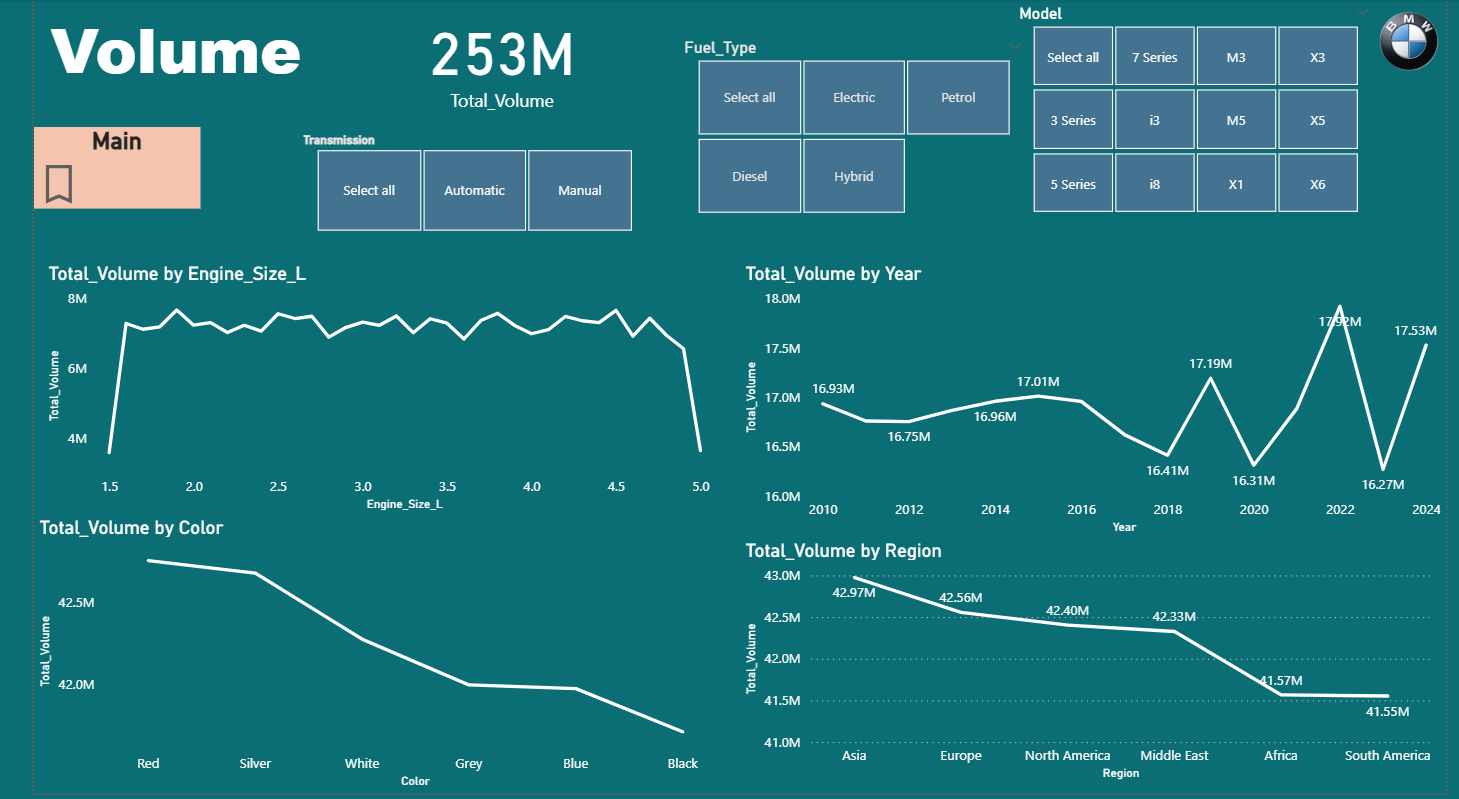

The page's visual inventory and layout, read from the dashboard file:
{"tool":"powerbi","page":{"name":"Volume","canvas":[1280,720],"ordinal":2},"visuals":[{"type":"textbox","box":[10,0,280.2,95.2],"z":0},{"type":"image","box":[1052.4,0,227.6,182.3],"z":1000},{"type":"slicer","fields":{"Values":["BMW sales data (2010-2024) (1).Transmission"]},"box":[231.2,116.1,334.6,100.7],"z":2000},{"type":"lineChart","fields":{"Category":["BMW sales data (2010-2024) (1).Region"],"Y":["BMW sales data (2010-2024) (1).Quantity"]},"box":[639.8,489.7,640.2,223.1],"z":3000},{"type":"lineChart","fields":{"Category":["BMW sales data (2010-2024) (1).Color"],"Y":["BMW sales data (2010-2024) (1).Quantity"]},"box":[0,468.8,632,251.2],"z":4000},{"type":"slicer","fields":{"Values":["BMW sales data (2010-2024) (1).Fuel_Type"]},"box":[576.7,30.8,331.9,169.6],"z":5000},{"type":"slicer","fields":{"Values":["BMW sales data (2010-2024) (1).Model"]},"box":[880.5,0,343.7,200.4],"z":6000},{"type":"lineChart","fields":{"Y":["BMW sales data (2010-2024) (1).Quantity"],"Category":["BMW sales data (2010-2024) (1).Year"]},"box":[639.8,238.5,640.2,251.2],"z":7000},{"type":"lineChart","fields":{"Category":["BMW sales data (2010-2024) (1).Engine_Size_L"],"Y":["BMW sales data (2010-2024) (1).Quantity"]},"box":[8.2,238.5,611.2,230.3],"z":8000},{"type":"card","fields":{"Values":["BMW sales data (2010-2024) (1).Quantity"]},"box":[272,0,304.7,106.1],"z":9000},{"type":"actionButton","title":"Main","box":[0,116.1,150.5,74.4],"z":10000}]}

Visuals, with their boxes in screenshot pixels (x1, y1, x2, y2), scaled from the page's 1280x720 canvas onto the 1459x799 screenshot:
textbox: Rect(11, 0, 331, 106)
image: Rect(1200, 0, 1458, 202)
slicer - BMW sales data (2010-2024) (1).Transmission: Rect(264, 129, 645, 241)
lineChart - BMW sales data (2010-2024) (1).Region x BMW sales data (2010-2024) (1).Quantity: Rect(729, 543, 1458, 791)
lineChart - BMW sales data (2010-2024) (1).Color x BMW sales data (2010-2024) (1).Quantity: Rect(0, 520, 720, 798)
slicer - BMW sales data (2010-2024) (1).Fuel_Type: Rect(657, 34, 1036, 222)
slicer - BMW sales data (2010-2024) (1).Model: Rect(1004, 0, 1395, 222)
lineChart - BMW sales data (2010-2024) (1).Quantity x BMW sales data (2010-2024) (1).Year: Rect(729, 265, 1458, 543)
lineChart - BMW sales data (2010-2024) (1).Engine_Size_L x BMW sales data (2010-2024) (1).Quantity: Rect(9, 265, 706, 520)
card - BMW sales data (2010-2024) (1).Quantity: Rect(310, 0, 657, 118)
"Main" actionButton: Rect(0, 129, 172, 211)
